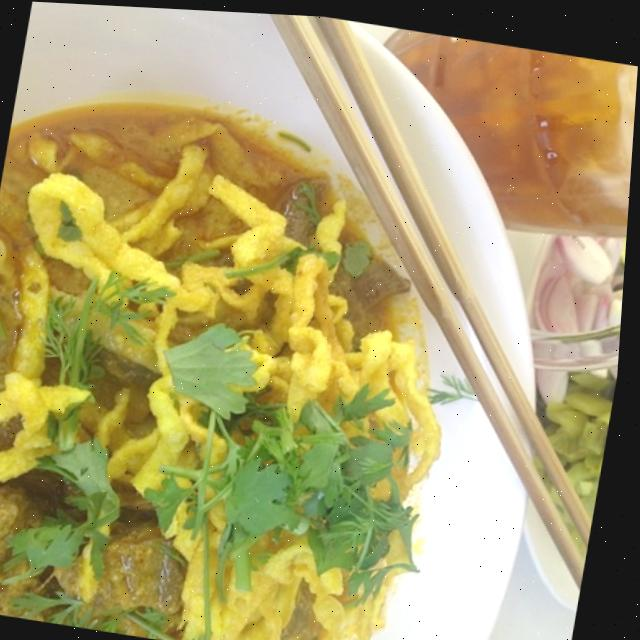面条主食: (0, 81, 463, 640)
